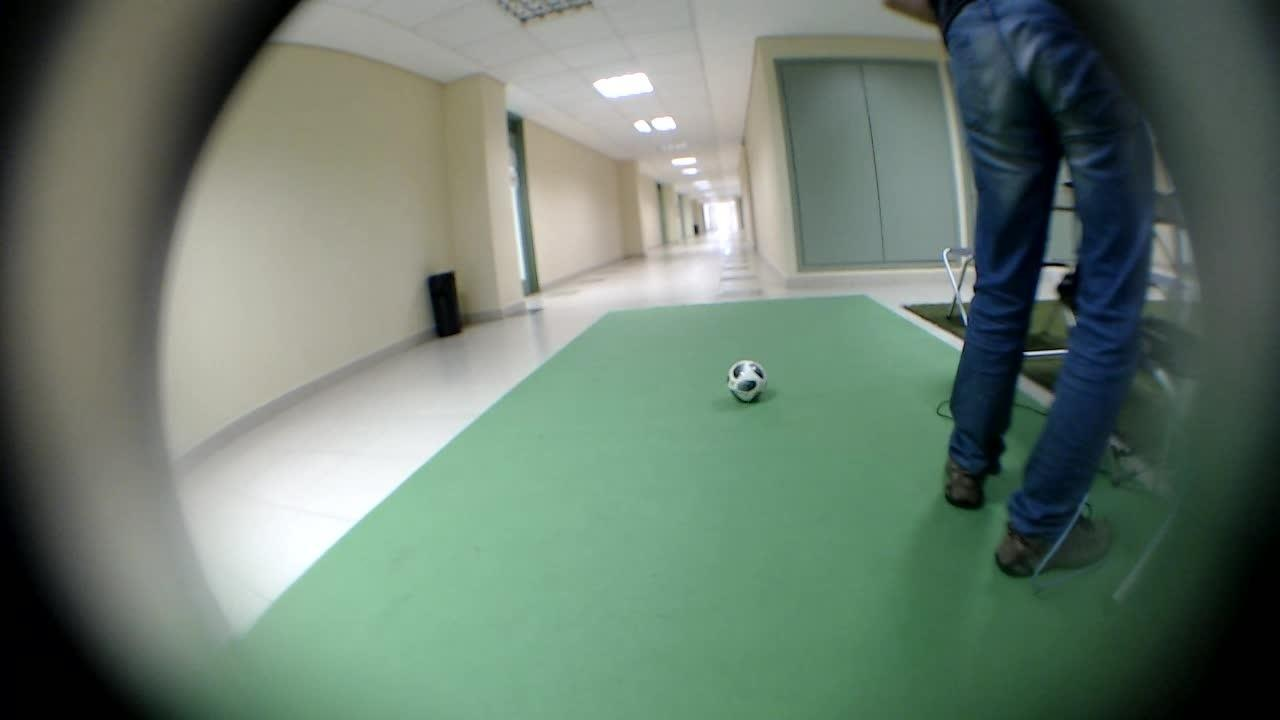ball: (708, 336, 779, 408)
